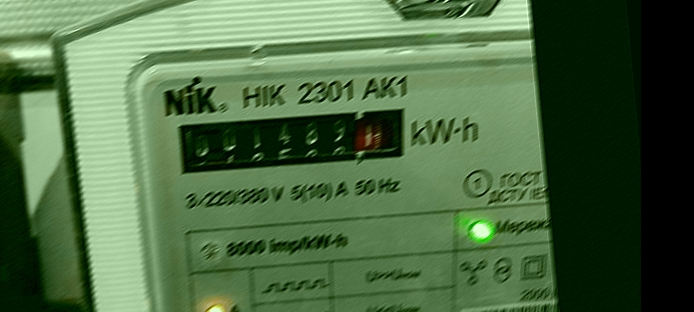0: (219, 125, 238, 151), (193, 131, 210, 158)
1: (248, 121, 265, 152), (360, 117, 375, 148)
4: (275, 120, 293, 147)
8: (301, 117, 320, 146)
9: (330, 117, 347, 143)
screen: (162, 92, 424, 191)
